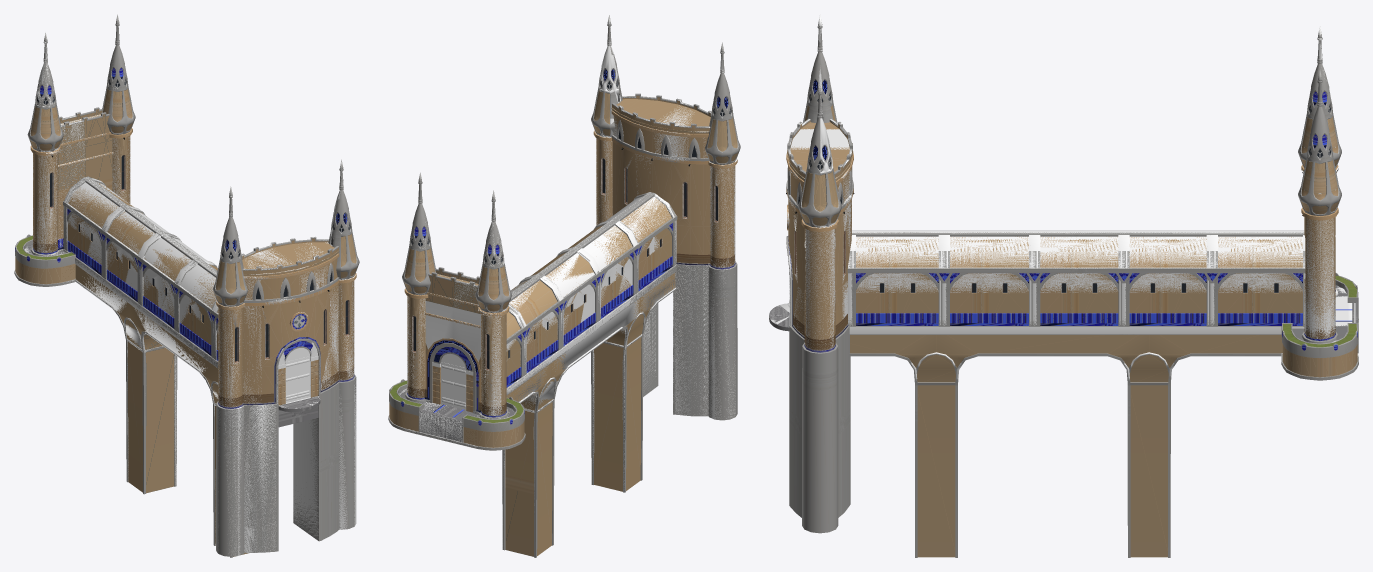
The model's file is objects_un_c01bridgegate03.gltf.
The picture shows the model from 3 angles, left to right: view 1: azimuth 30°, elevation 25°; view 2: azimuth 150°, elevation 25°; view 3: azimuth 270°, elevation 25°; orthographic projection. The views are drawn at different scales.
Visible parts, largest first — view 1: um_objects_un_c01bridgegate03_model_lod0Shape:objects_un_c01 (×7), um_objects_un_c01bridgegate03_model_lod2Shape:objects_un_c01 (×2), um_objects_un_c01bridgegate03_model_lod1Shape:objects_un_c01 (×3); view 2: um_objects_un_c01bridgegate03_model_lod0Shape:objects_un_c01 (×8), um_objects_un_c01bridgegate03_model_lod2Shape:objects_un_c01 (×3), um_objects_un_c01bridgegate03_model_lod1Shape:objects_un_c01 (×4); view 3: um_objects_un_c01bridgegate03_model_lod0Shape:objects_un_c01 (×5), um_objects_un_c01bridgegate03_model_lod2Shape:objects_un_c01 (×2), um_objects_un_c01bridgegate03_model_lod1Shape:objects_un_c01 (×3).
Boxes of the visible parts, x1=… form: um_objects_un_c01bridgegate03_model_lod0Shape:objects_un_c01 (×7): x1=14, y1=14, x2=359, y2=556; um_objects_un_c01bridgegate03_model_lod2Shape:objects_un_c01 (×2): x1=19, y1=32, x2=357, y2=557; um_objects_un_c01bridgegate03_model_lod1Shape:objects_un_c01 (×3): x1=16, y1=64, x2=357, y2=402; um_objects_un_c01bridgegate03_model_lod0Shape:objects_un_c01 (×8): x1=388, y1=15, x2=740, y2=550; um_objects_un_c01bridgegate03_model_lod2Shape:objects_un_c01 (×3): x1=403, y1=32, x2=732, y2=557; um_objects_un_c01bridgegate03_model_lod1Shape:objects_un_c01 (×4): x1=388, y1=68, x2=739, y2=447; um_objects_un_c01bridgegate03_model_lod0Shape:objects_un_c01 (×5): x1=769, y1=14, x2=1358, y2=533; um_objects_un_c01bridgegate03_model_lod2Shape:objects_un_c01 (×2): x1=787, y1=30, x2=1356, y2=557; um_objects_un_c01bridgegate03_model_lod1Shape:objects_un_c01 (×3): x1=789, y1=66, x2=1358, y2=377.
Size of the model in its own units: 39.22 by 108 by 116.
Materials: 8 (6 with a texture image).
